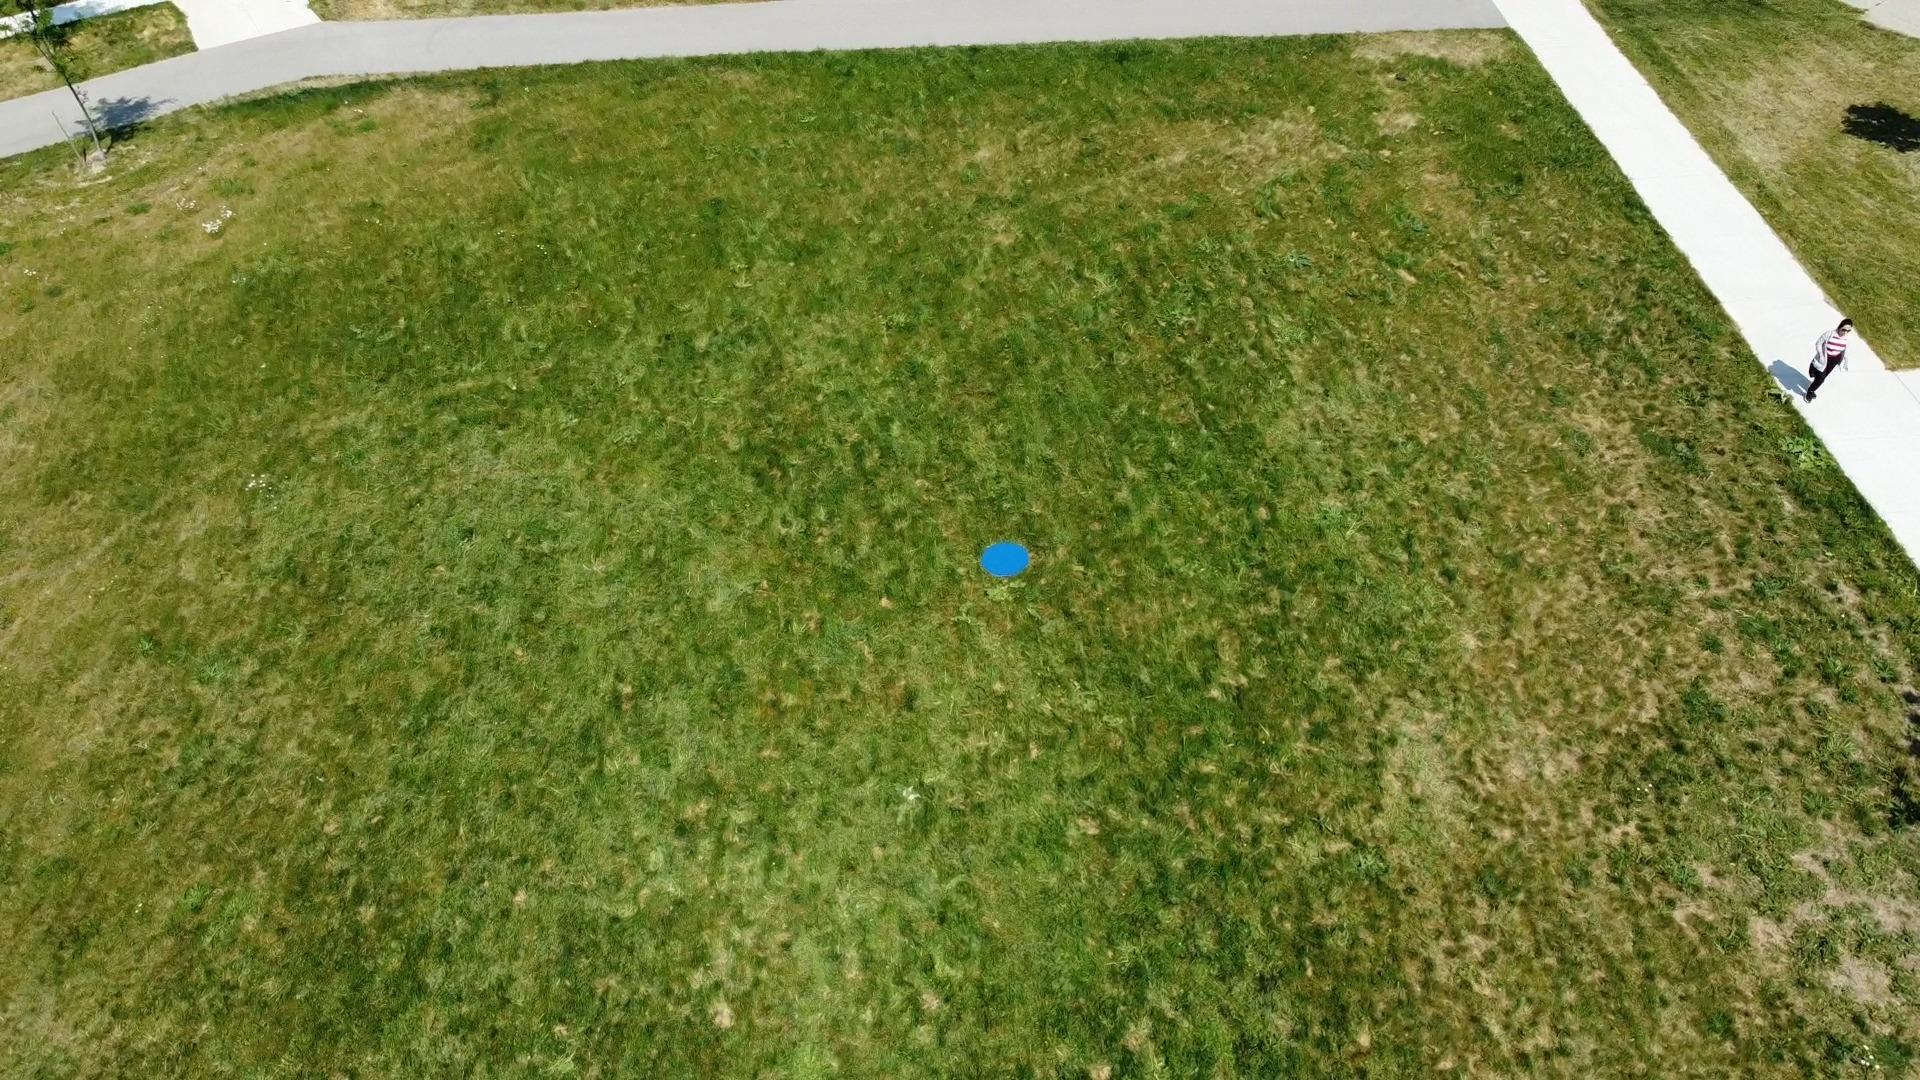Blue: (980, 539, 1031, 579)
